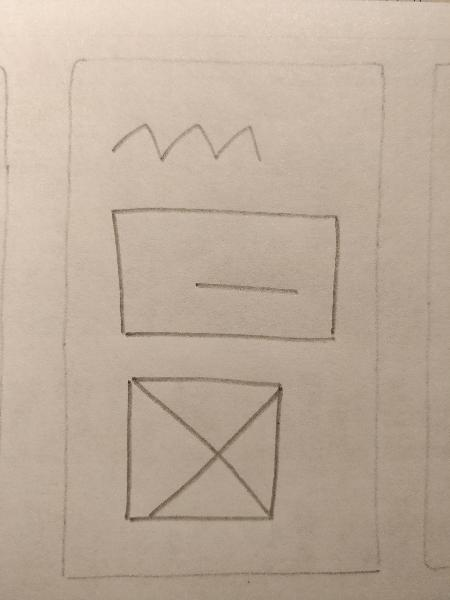button: (101, 197, 349, 352)
image: (109, 367, 295, 537)
text: (98, 107, 272, 176)
